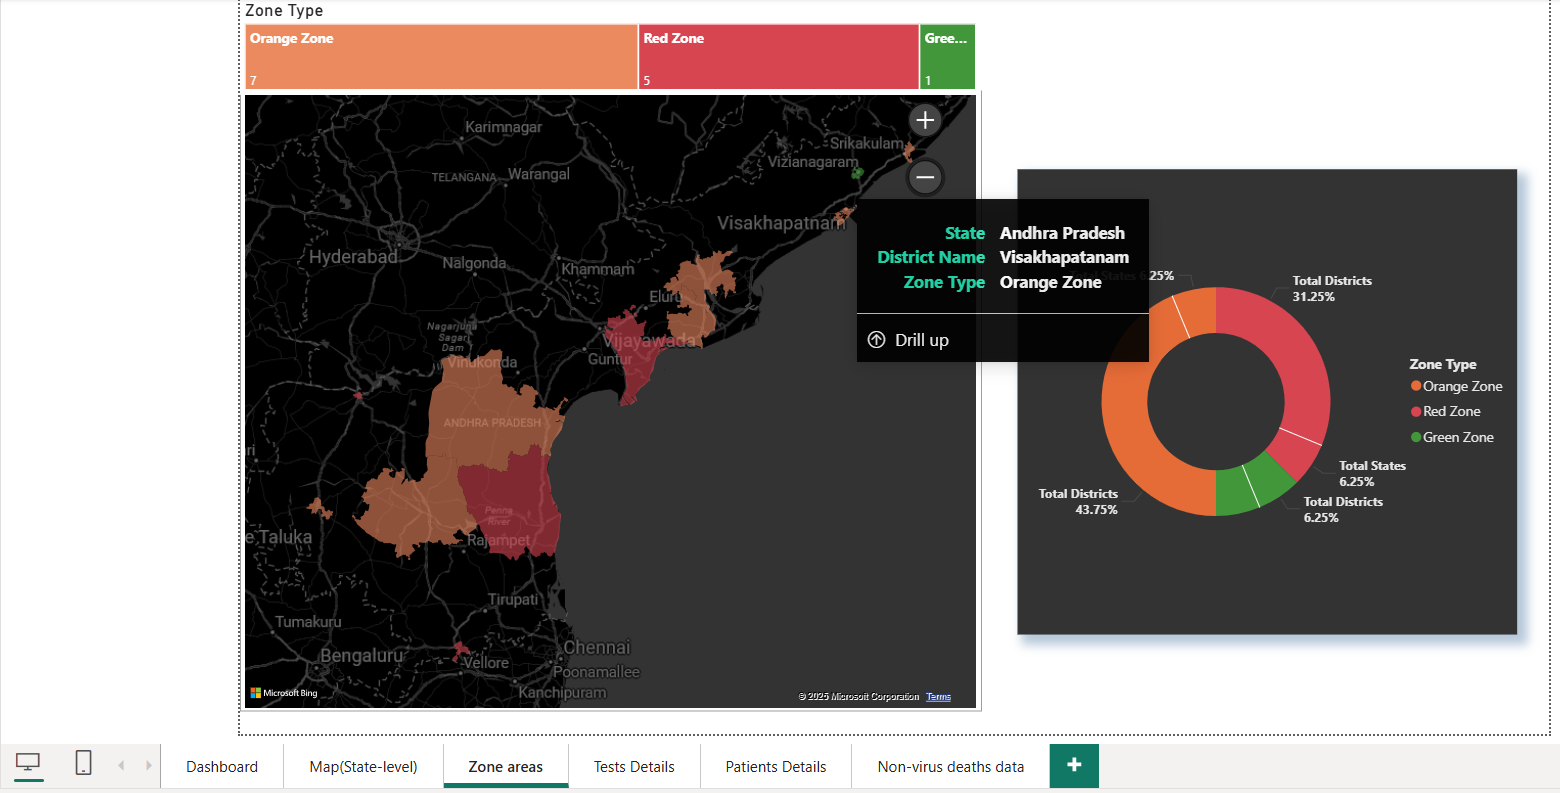

Layout of this report page (visuals, bound fields, positions):
{"tool":"powerbi","page":{"name":"Zone areas","canvas":[1280,720],"ordinal":2},"visuals":[{"type":"filledMap","fields":{"Series":["dist_zones_2020.Zone Type"],"Category":["state_level_2020.State","dist_zones_2020.District Name"]},"box":[0,95.4,725.1,607.7],"z":0},{"type":"treemap","title":" Zone Type","fields":{"Group":["dist_zones_2020.Zone Type"],"Values":["dist_zones_2020.TotalDistricts"]},"box":[0,1.2,725,93.8],"z":1000},{"type":"donutChart","fields":{"Category":["dist_zones_2020.Zone Type"],"Y":["dist_zones_2020.TotalDistricts","dist_zones_2020.TotalStates"]},"box":[760,167.5,488.8,455],"z":2000}]}

Visuals, with their boxes on the page's 1280x720 design canvas (x1, y1, x2, y2). These are canvas units, not pixel positions in the 1560x793 screenshot, which may show the page scaled, cropped or inside an application window:
filledMap - dist_zones_2020.Zone Type x state_level_2020.State: detection(0, 95, 725, 703)
" Zone Type" treemap: detection(0, 1, 725, 95)
donutChart - dist_zones_2020.Zone Type x dist_zones_2020.TotalDistricts: detection(760, 168, 1249, 622)
